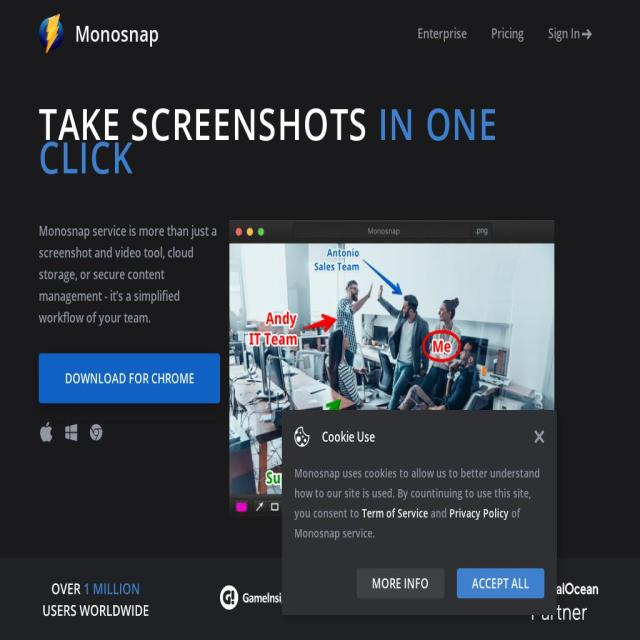button: (417, 24, 467, 44), (491, 24, 524, 44), (38, 420, 64, 442), (88, 420, 114, 442), (64, 420, 88, 442)
image: (230, 220, 554, 518), (42, 578, 149, 620), (511, 578, 598, 620), (220, 584, 296, 614), (366, 584, 441, 614), (39, 14, 69, 54), (38, 421, 54, 442), (88, 421, 104, 442), (294, 426, 309, 446), (64, 421, 78, 442), (534, 430, 544, 443)
text: (39, 93, 498, 186), (39, 94, 378, 152), (39, 220, 220, 328), (294, 465, 540, 521), (39, 354, 220, 404), (294, 505, 520, 541), (75, 17, 159, 50), (356, 568, 444, 598), (456, 568, 544, 598), (361, 505, 428, 521), (449, 505, 509, 521), (321, 429, 375, 444), (548, 24, 580, 44), (428, 505, 450, 521)
